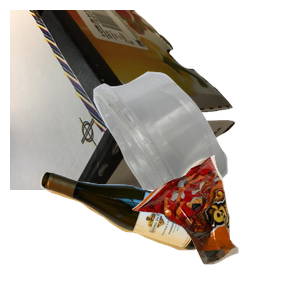cardboard: (10, 10, 238, 190)
glass: (37, 168, 242, 300)
plastic: (91, 69, 300, 249)
trash: (130, 153, 300, 300)
